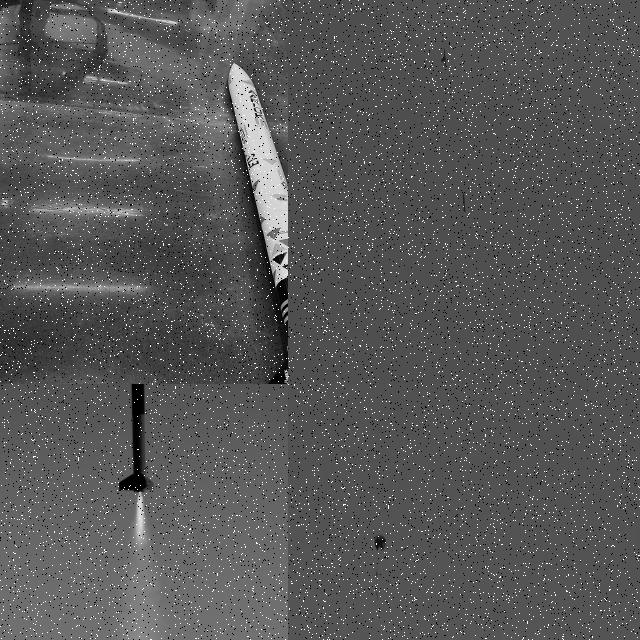Rocket: (228, 61, 288, 355), (118, 384, 156, 493), (463, 192, 466, 212)
